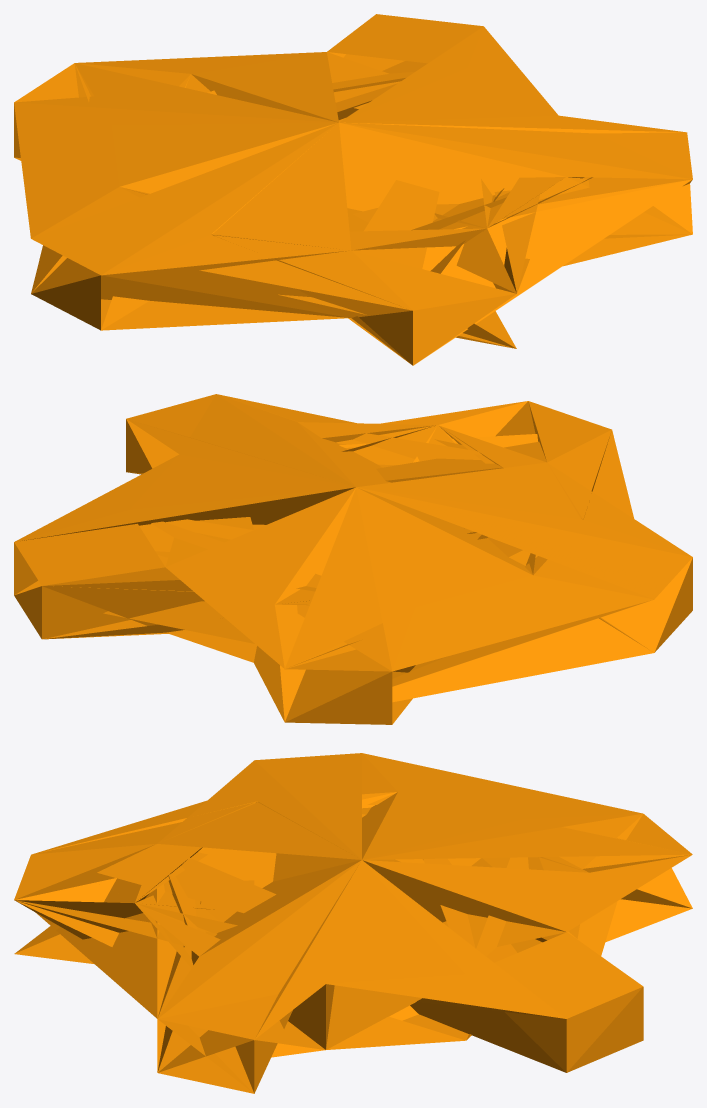
The model's file is S.S._Dolphin_Gluon_Drive_cog_5.obj.
3 renders of one model, top to bottom at view 1: azimuth 30°, elevation 25°; view 2: azimuth 150°, elevation 25°; view 3: azimuth 270°, elevation 25°, orthographic. The views are drawn at different scales.
Visible parts, largest first — view 1: S.S._Dolphin_Gluon_Drive_cog_5; view 2: S.S._Dolphin_Gluon_Drive_cog_5; view 3: S.S._Dolphin_Gluon_Drive_cog_5.
Part boxes in pixels (x1,y1,x2,y2): S.S._Dolphin_Gluon_Drive_cog_5: [14, 14, 692, 365]; S.S._Dolphin_Gluon_Drive_cog_5: [14, 394, 692, 724]; S.S._Dolphin_Gluon_Drive_cog_5: [14, 753, 692, 1093].
Bounding box in the file's own units: 2.11 × 0.3232 × 2.11.
